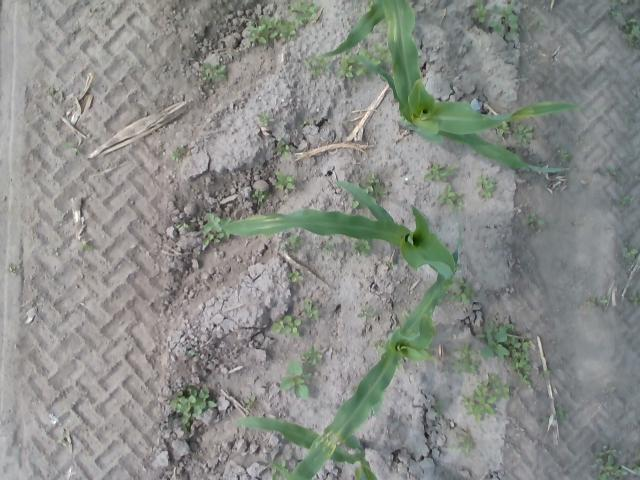Maize: (264, 248, 458, 479), (351, 1, 587, 173), (221, 180, 456, 282), (234, 417, 380, 480), (318, 1, 384, 61)
Weeds: (476, 316, 534, 388), (248, 0, 318, 44), (459, 372, 512, 422), (168, 384, 216, 431), (471, 0, 522, 40), (590, 448, 640, 480), (609, 0, 640, 48), (278, 359, 312, 402), (200, 213, 233, 246), (453, 342, 481, 377), (304, 51, 333, 81), (424, 160, 459, 184), (449, 426, 476, 453), (436, 184, 464, 210), (202, 62, 230, 88), (270, 316, 302, 338), (451, 280, 475, 308), (478, 172, 500, 202), (366, 173, 389, 201), (358, 50, 381, 78), (340, 52, 358, 79), (273, 170, 296, 191), (522, 210, 546, 230), (304, 344, 325, 366), (301, 300, 321, 322), (272, 138, 294, 158), (351, 238, 372, 258), (585, 296, 610, 312), (513, 123, 534, 142), (282, 232, 304, 250), (434, 394, 448, 422), (622, 241, 638, 262), (376, 42, 392, 62), (356, 306, 376, 319), (62, 142, 78, 158), (257, 113, 275, 127), (174, 218, 193, 230), (288, 270, 304, 284), (80, 238, 94, 252), (252, 188, 266, 202), (619, 194, 632, 209), (243, 395, 259, 407), (44, 86, 58, 99), (316, 242, 332, 253), (498, 122, 510, 136), (609, 164, 621, 178), (173, 150, 183, 166), (386, 262, 402, 272), (559, 150, 572, 162), (627, 292, 639, 305), (556, 405, 566, 420), (540, 368, 552, 380), (535, 15, 545, 28), (572, 220, 586, 228), (9, 265, 19, 275), (372, 340, 383, 348), (576, 137, 584, 147), (352, 202, 362, 210), (272, 470, 280, 480), (540, 416, 550, 423), (561, 260, 568, 270), (188, 349, 196, 357), (366, 0, 374, 7), (606, 224, 614, 230), (634, 175, 640, 181), (282, 460, 286, 468)
